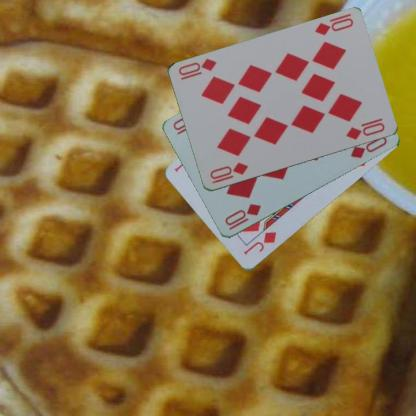10d: (222, 200, 262, 232), (207, 159, 250, 185), (312, 11, 355, 37)
Jd: (240, 230, 278, 257)
